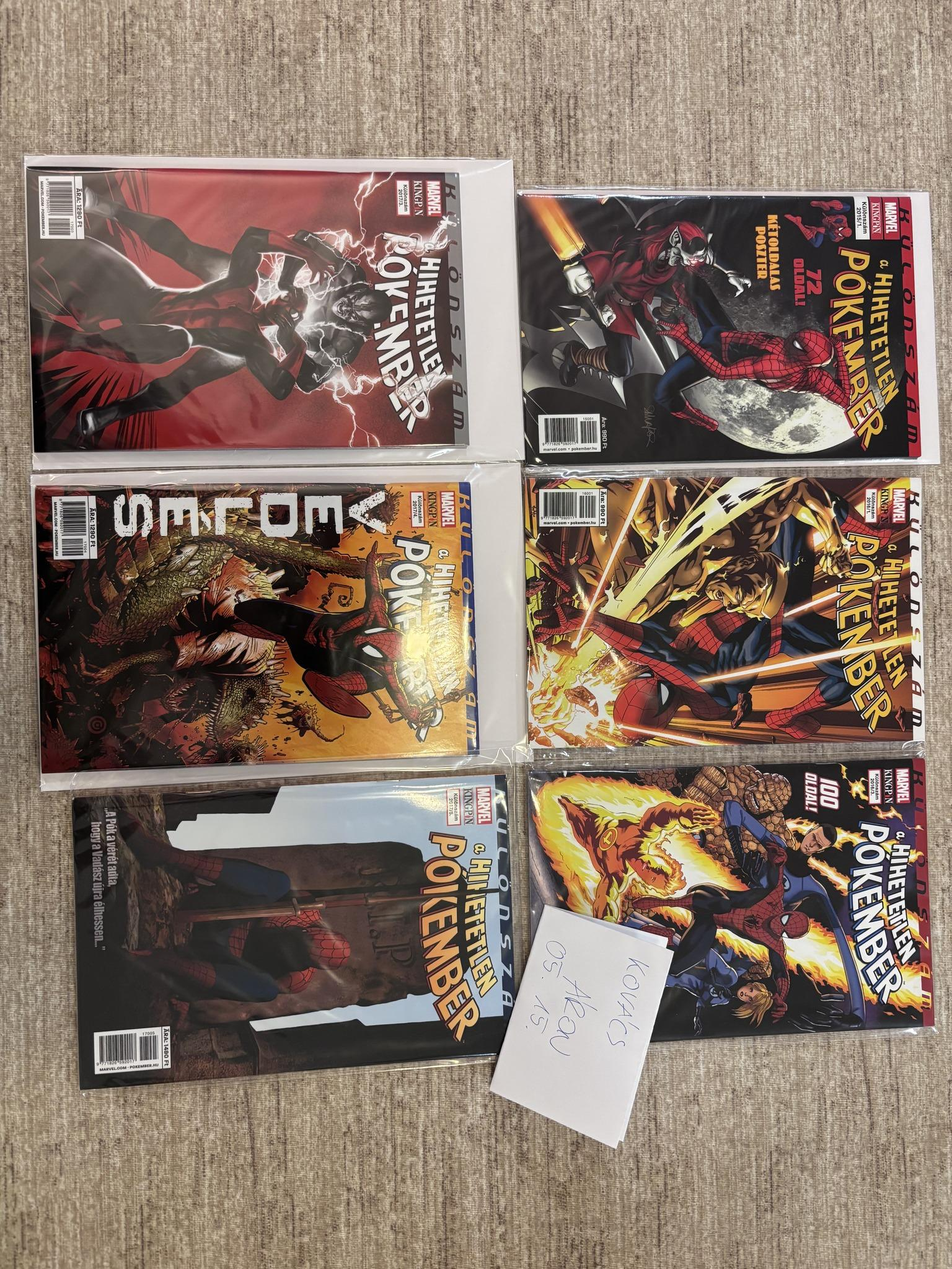comic: (64, 772, 521, 1088), (33, 472, 478, 775), (26, 163, 468, 451), (518, 183, 938, 468), (527, 755, 934, 1044), (525, 469, 924, 748)
